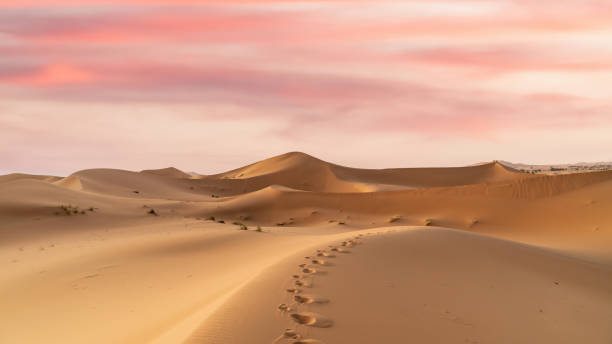human_footprint: (274, 234, 362, 343)
